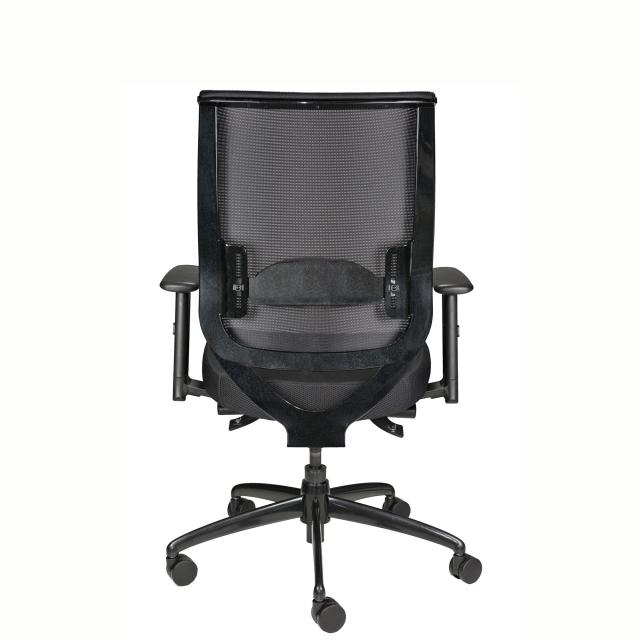chair: (160, 89, 482, 633)
